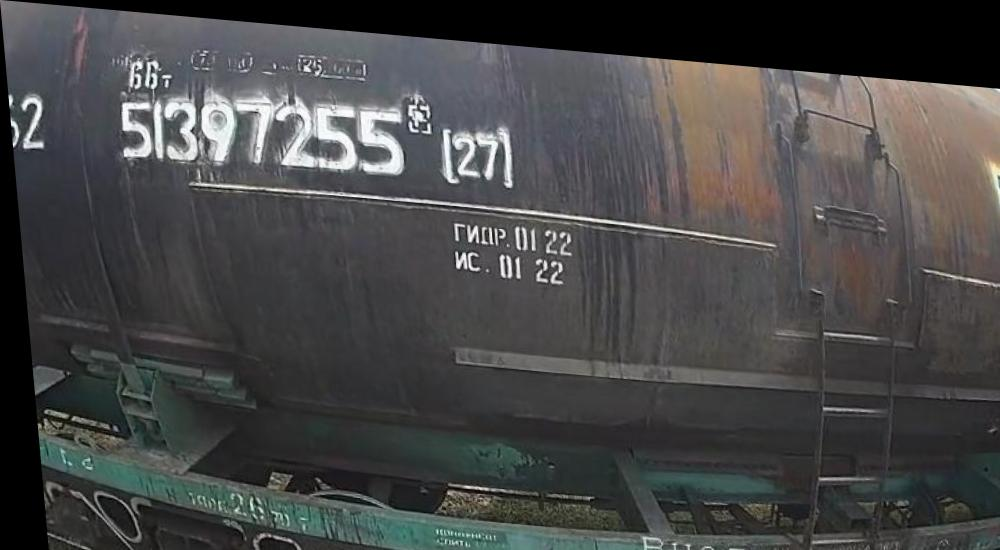Wagon-number: (104, 76, 410, 179)
